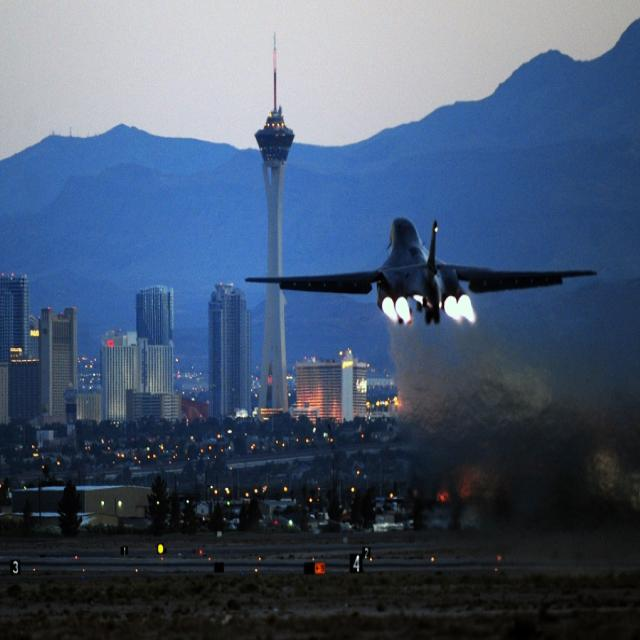MIL_Plane: (244, 208, 599, 318)
